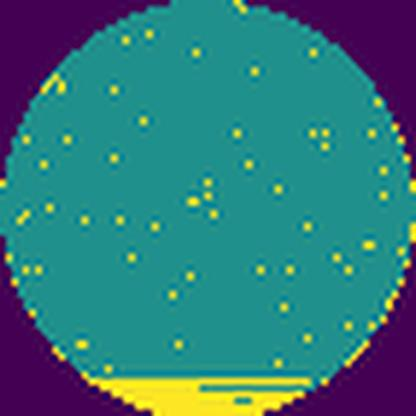Edge-Loc: (82, 373, 320, 416)
